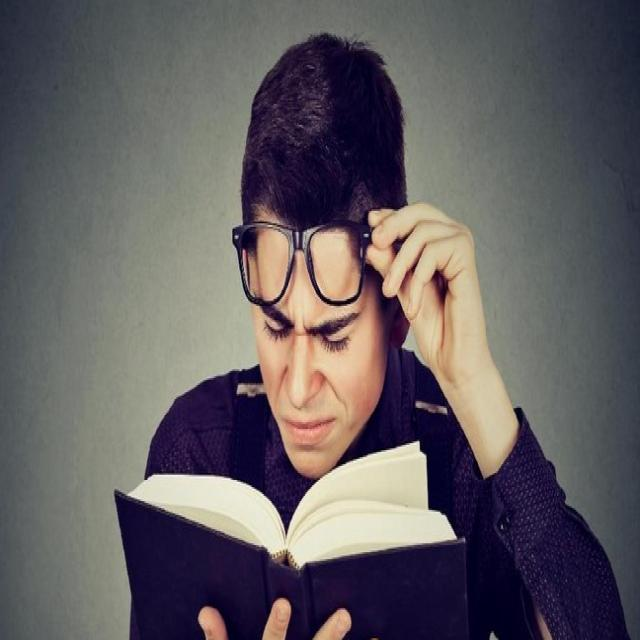Glasses: (229, 209, 380, 313)
